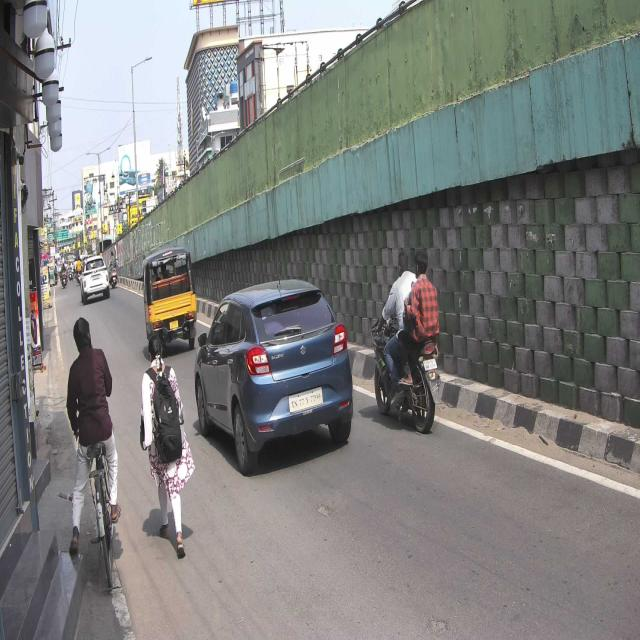double_rider: (373, 243, 441, 436)
